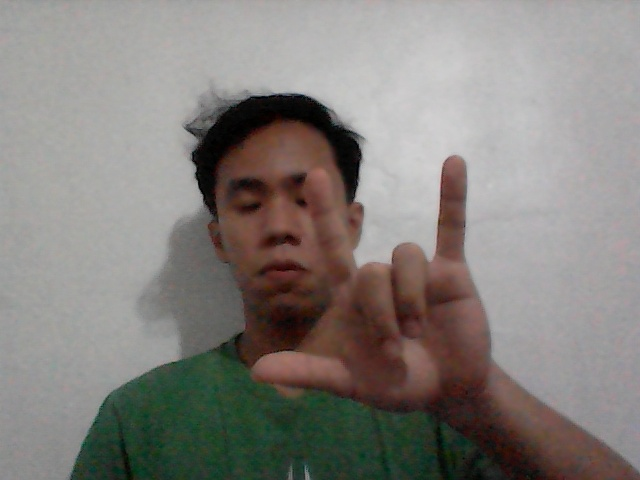I Love You: (256, 142, 514, 431)
